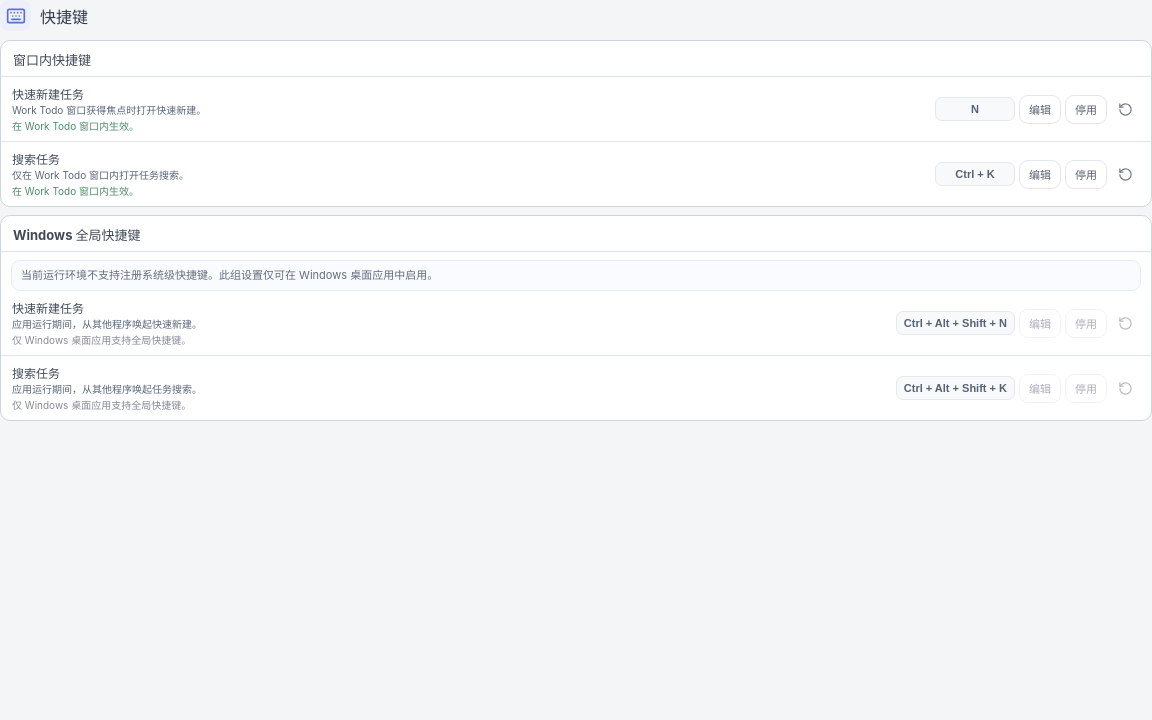
shortcut settings screen › saves a captured binding and updates the visible shortcut
Click the button with aria-label "编辑窗口内快捷键：快速新建任务" at (1040, 109), box [1019,94,1061,124]
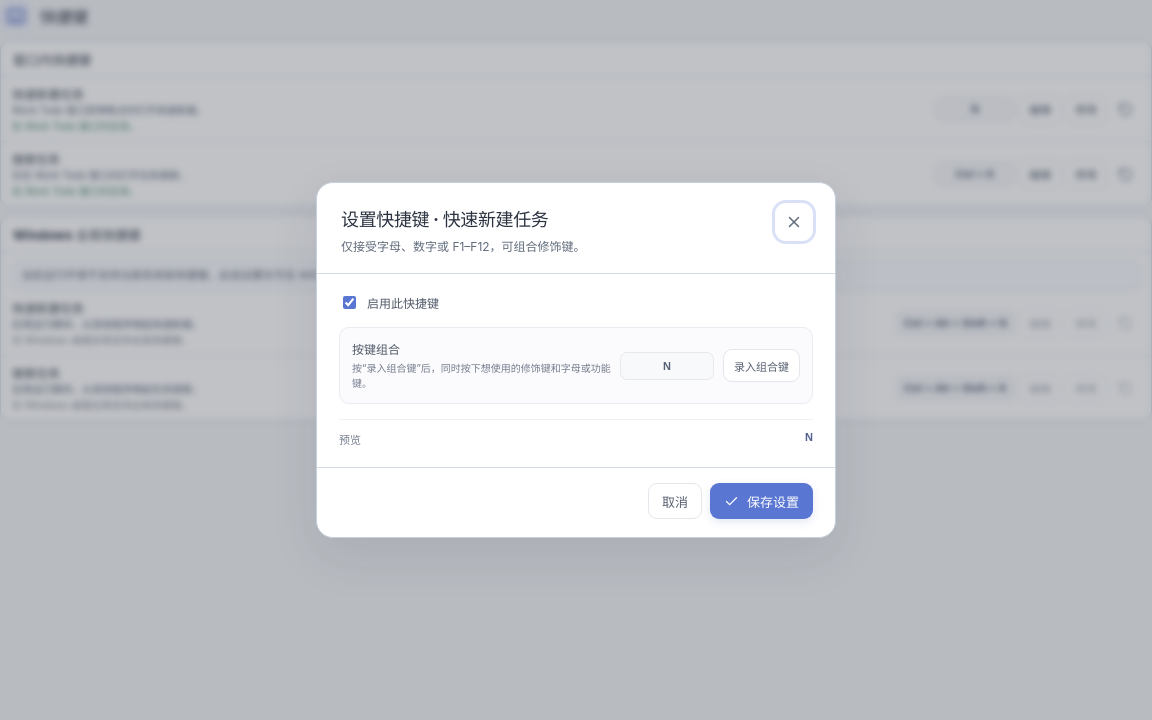
Click the button "录入组合键" at (762, 366), box [723,349,800,382]
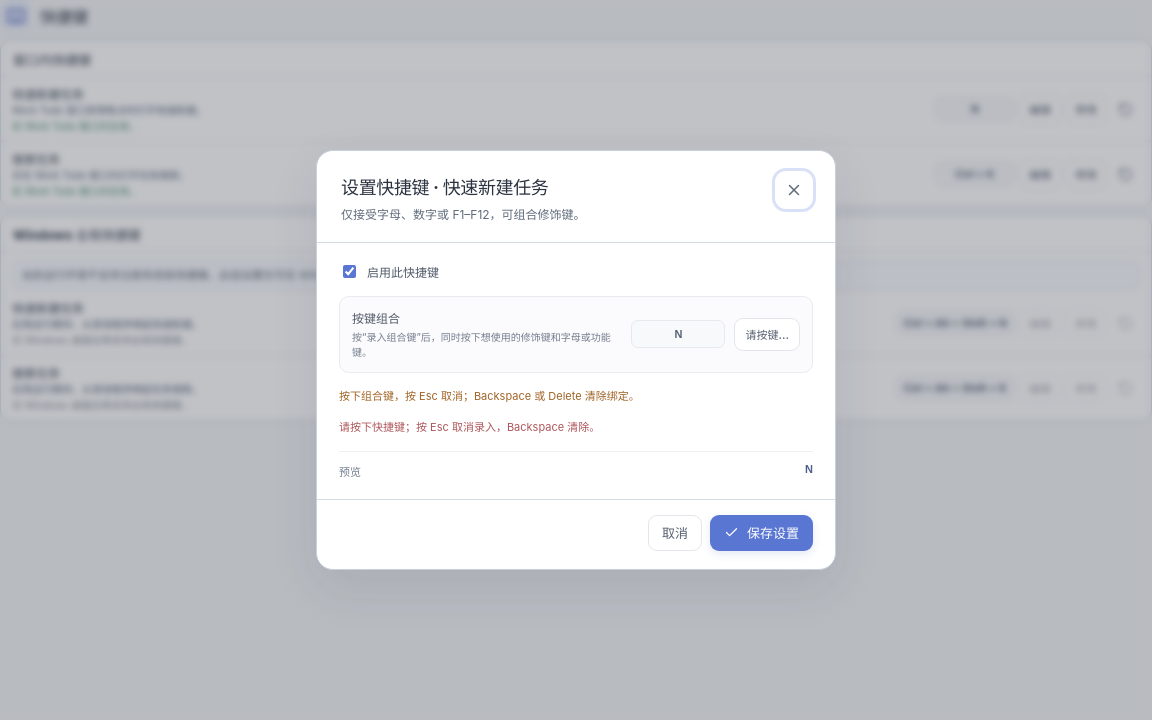
Press F4 in the button with aria-label "正在录入快捷键，按 Esc 取消录入", box [734,318,800,351]
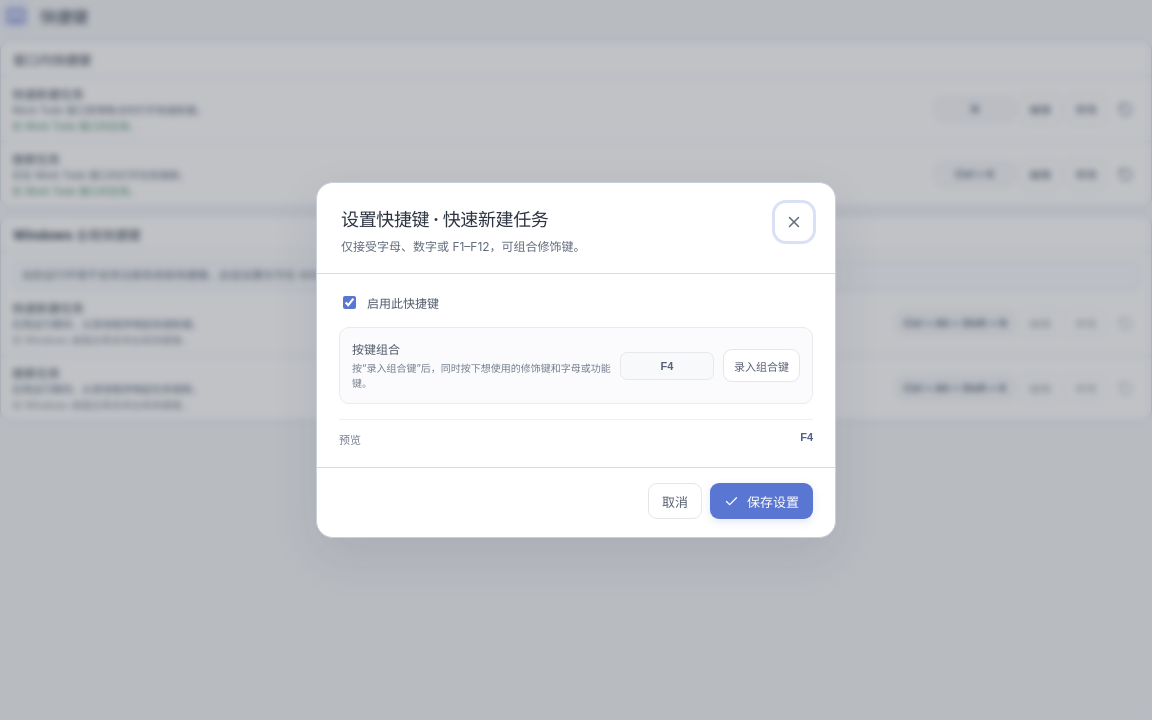
Click the button "保存设置" at (762, 501), box [710,483,813,519]
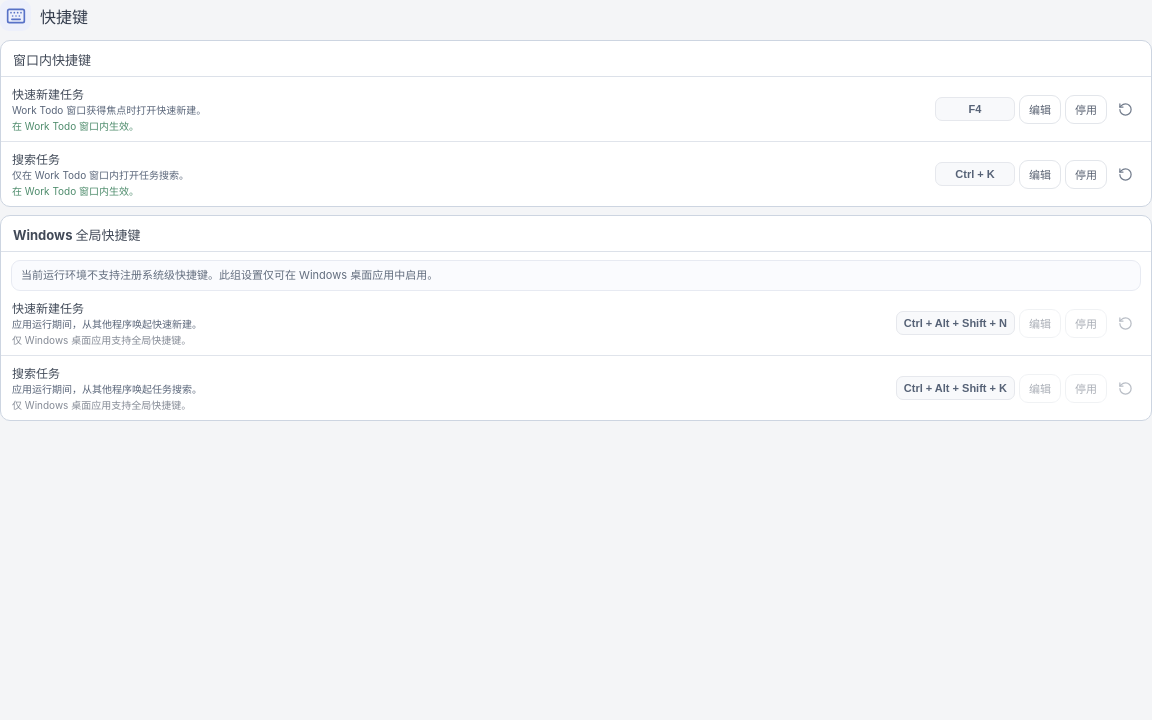
Check: the text "F4" is shown, box [935,97,1015,121]
